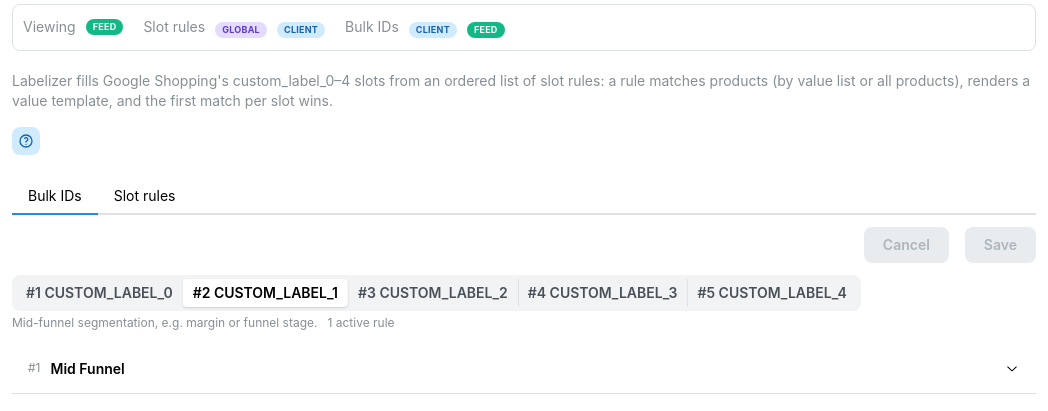
Test: CustomLabelsUI operational page › slots without active rules show the empty notice when selected
Check: the text "Mid Funnel" is shown, box [50,360,125,377]
Click the text "#1 CUSTOM_LABEL_0" at (99, 293), box [26,284,173,301]
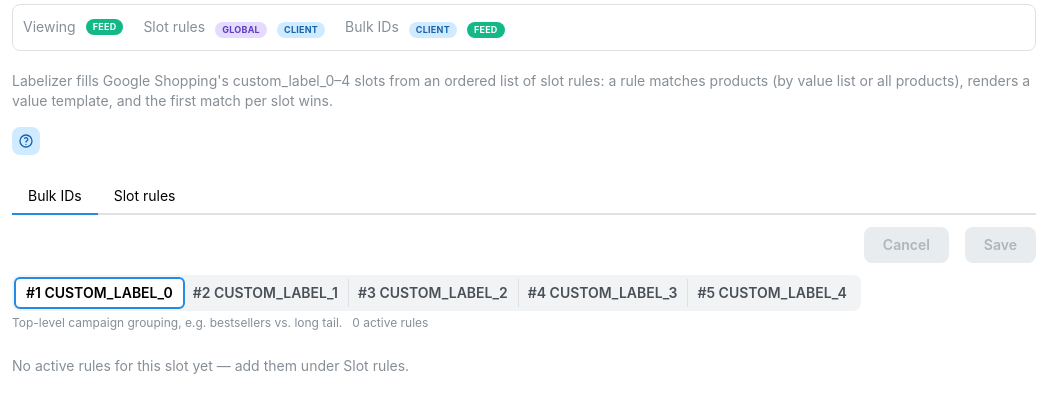
Check: the text with test id "empty-slot-notice" is shown, box [12,357,409,374]
Check: the button "Mid Funnel" is gone
